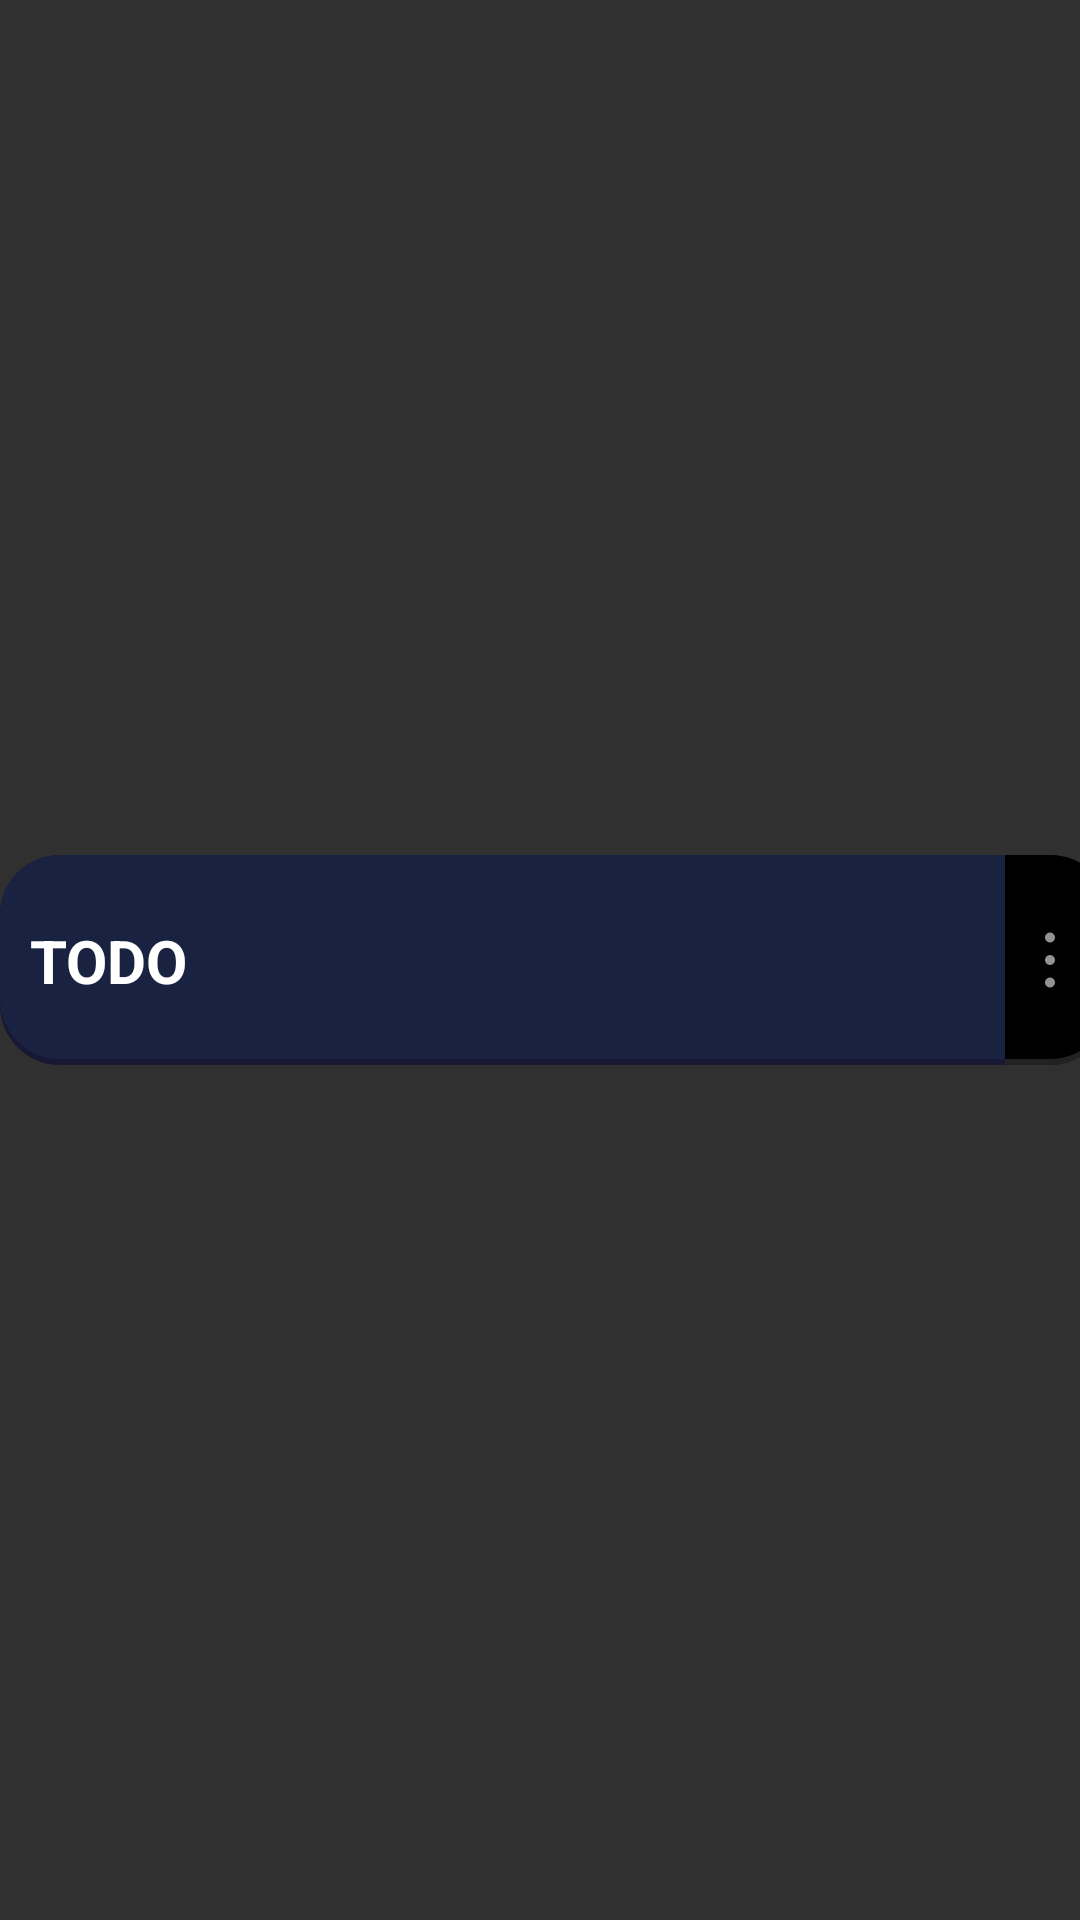

Screen size 1080x1920. Icon name, then its box in pixels as (x1, y1, x2, y2):
options: (1045, 932, 1055, 988)
